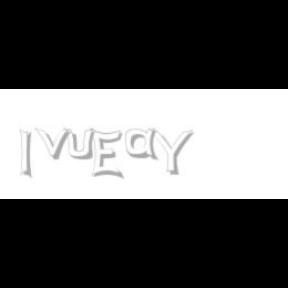E: (90, 128, 123, 180)
Y: (148, 128, 194, 176)
a: (126, 128, 162, 160)
l: (20, 128, 36, 180)
u: (64, 128, 98, 160)
v: (34, 128, 74, 160)
